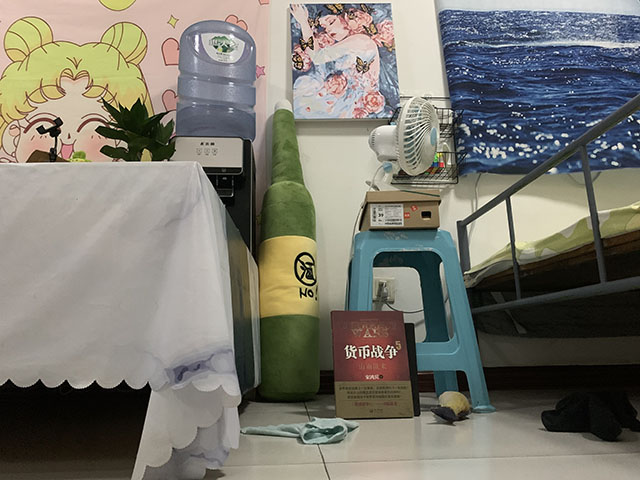bed: (455, 92, 640, 347)
book: (329, 310, 422, 421)
socks: (239, 415, 359, 445)
stool: (344, 229, 495, 413)
table: (1, 160, 264, 479)
